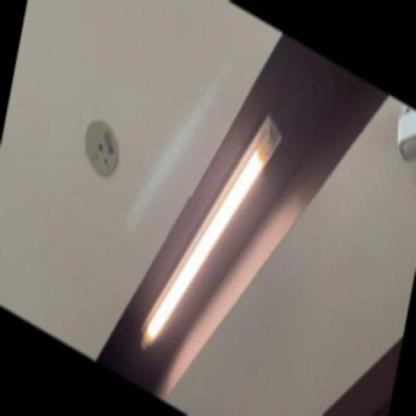light_on: (133, 56, 293, 411)
